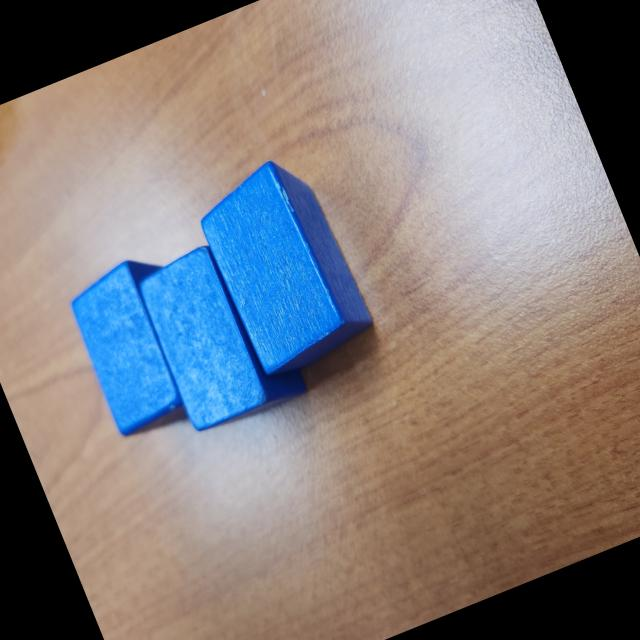blue: (187, 147, 382, 390), (128, 228, 310, 440), (58, 246, 221, 444)
